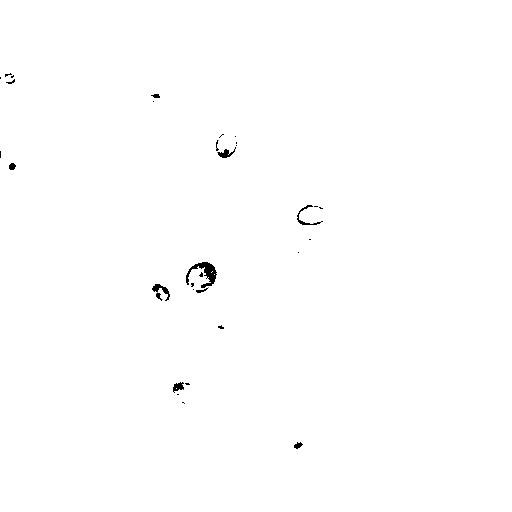micro-algae: (141, 213, 180, 255), (183, 259, 219, 294), (280, 427, 312, 461), (169, 378, 197, 407), (213, 130, 239, 160), (295, 203, 326, 227), (0, 152, 25, 177), (291, 233, 316, 257), (149, 283, 171, 303), (1, 71, 16, 83), (189, 167, 200, 181)
